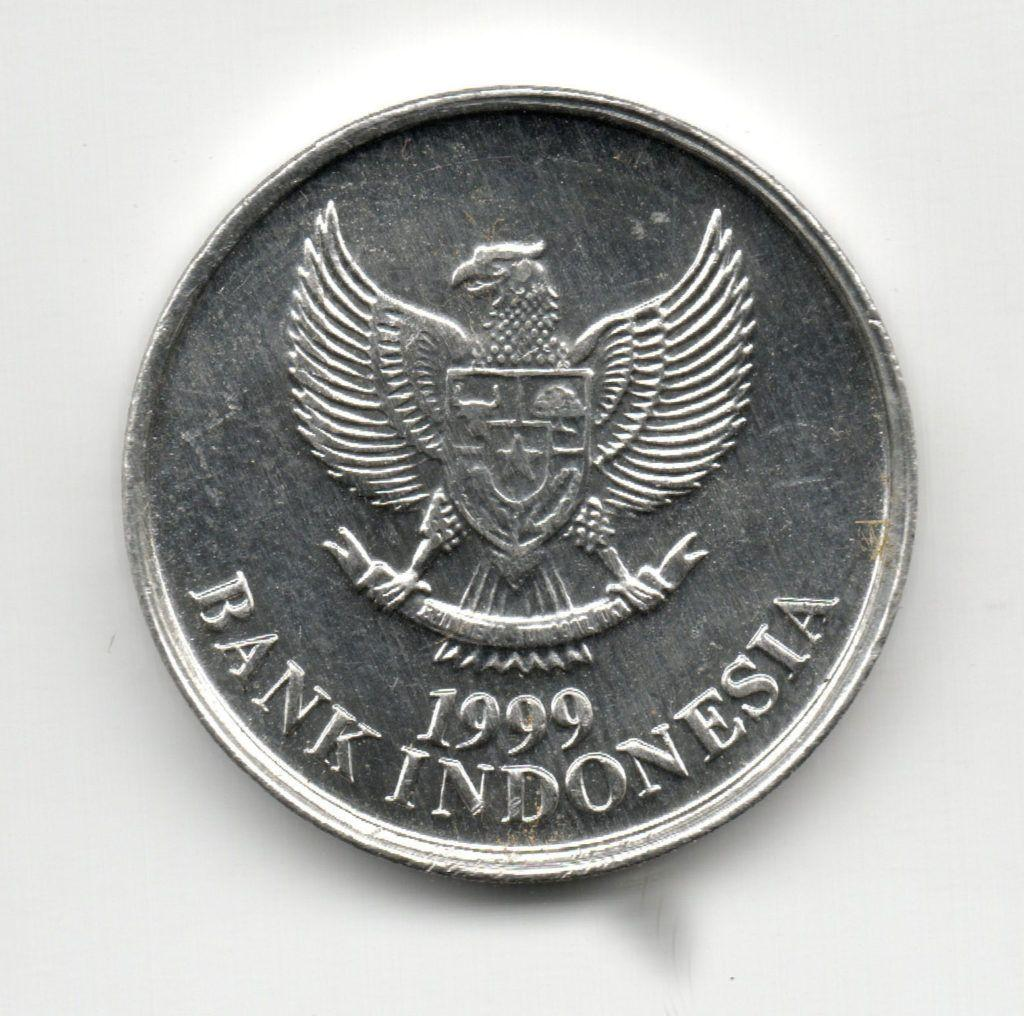coin_100_e1999: (126, 78, 939, 901)
